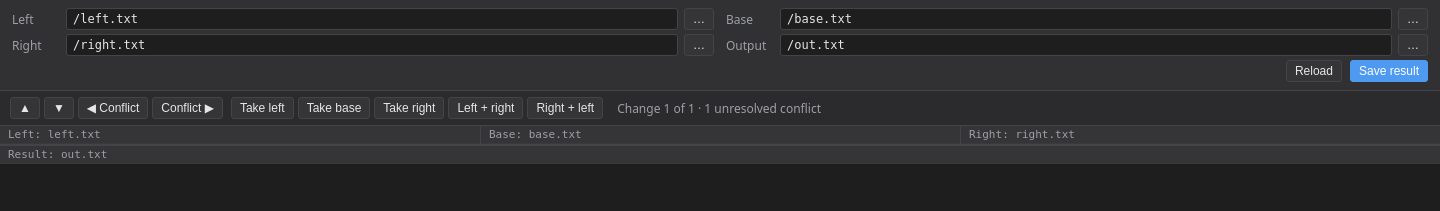
Scenario: <MergeTab /> › surfaces write failures
Expected: the message shows "Change", [617,100,821,116]
What coordinates should you click on to do the following:
click the button "Take left"
I would click on:
 (262, 108)
Its box is [231,97,294,119].
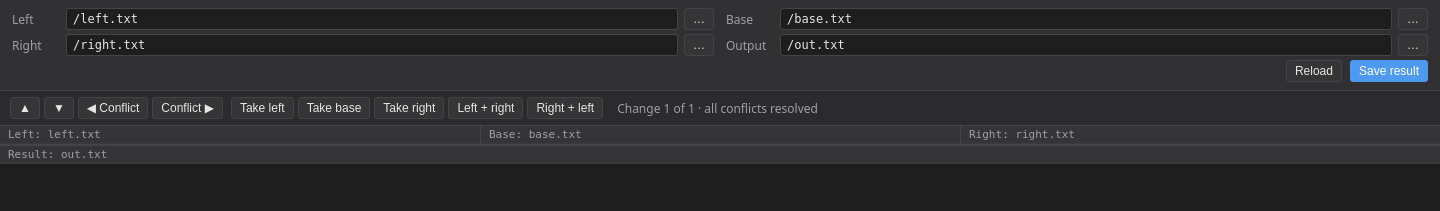
What coordinates should you click on to do the following:
click the button "Save result"
I would click on:
 (1389, 71)
Its box is [1350,60,1428,82].
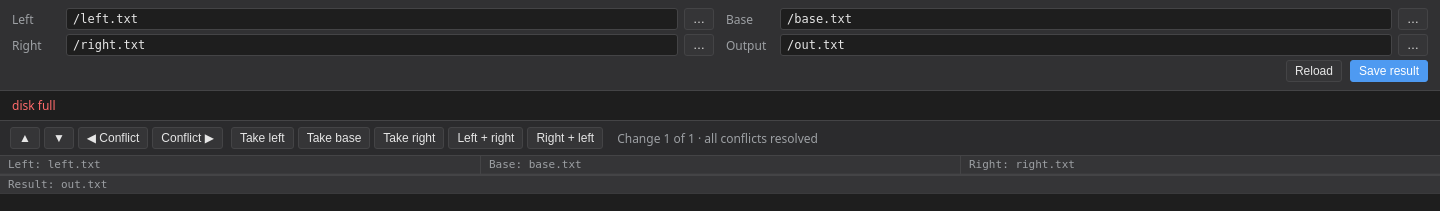
Expected: the message "disk full" is shown, [0,91,1439,121]
